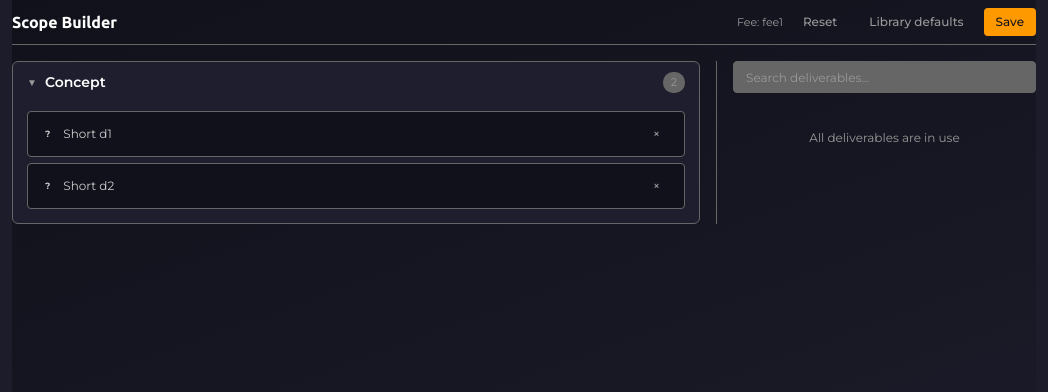
Test: ScopeBuilder save state › does not claim "saved" when the user edited while the save was in flight
What coordinates should you click on to do the following:
click the button "Save"
I would click on:
 (1010, 22)
Its box is [984,8,1036,36].
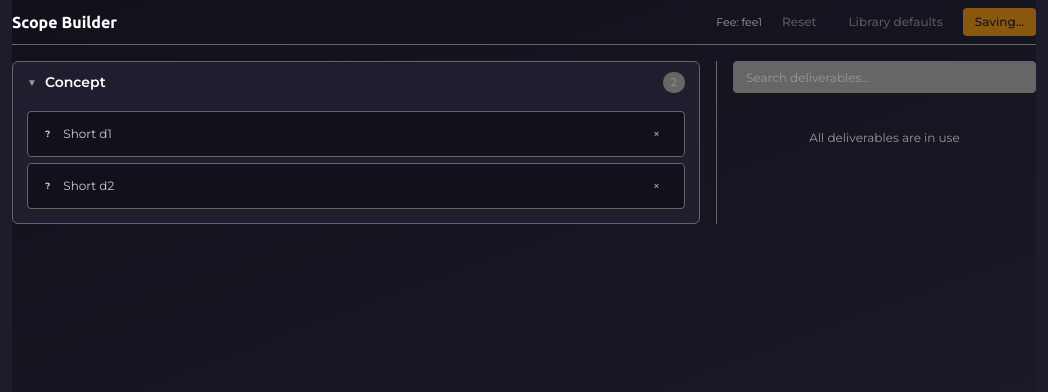
# Edit after the save request was built.
What coordinates should you click on to do the following:
click the button titled "Remove deliverable" in the row of "Short d1"
I would click on:
 (656, 134)
Its box is [641,120,672,148].
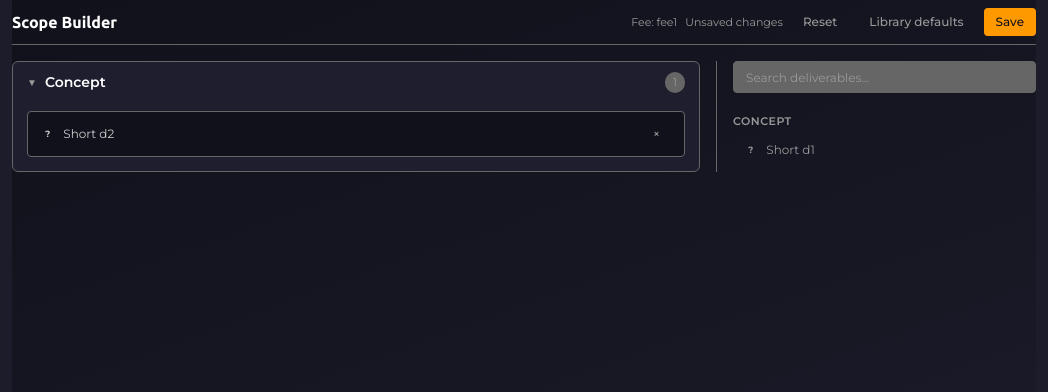
Expected: the button "Save" is enabled, [984,8,1036,36]
Expected: the text "Unsaved changes" is shown, [685,14,783,30]
